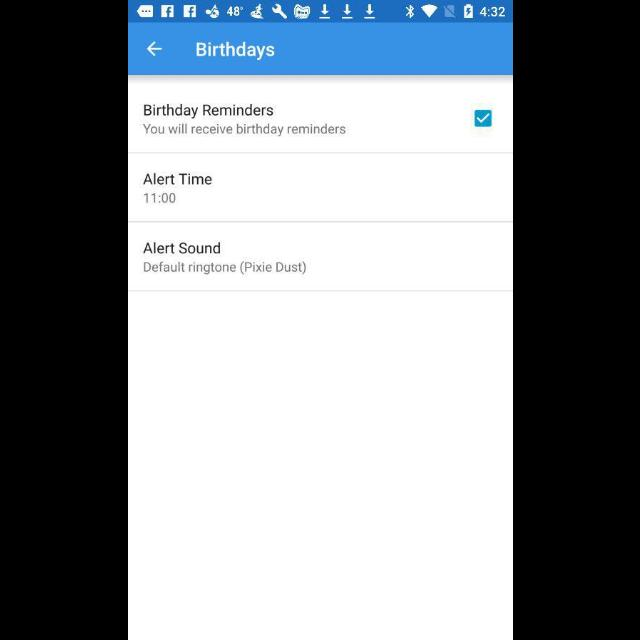checkbox: (473, 110, 491, 128)
icon: (146, 42, 162, 58)
text: (142, 123, 346, 137), (143, 261, 305, 275), (144, 104, 272, 120), (196, 41, 274, 60), (142, 242, 220, 254), (142, 172, 212, 185), (142, 194, 176, 204)
toolbar: (128, 24, 512, 76)
uppertaskbar: (128, 1, 512, 23)
